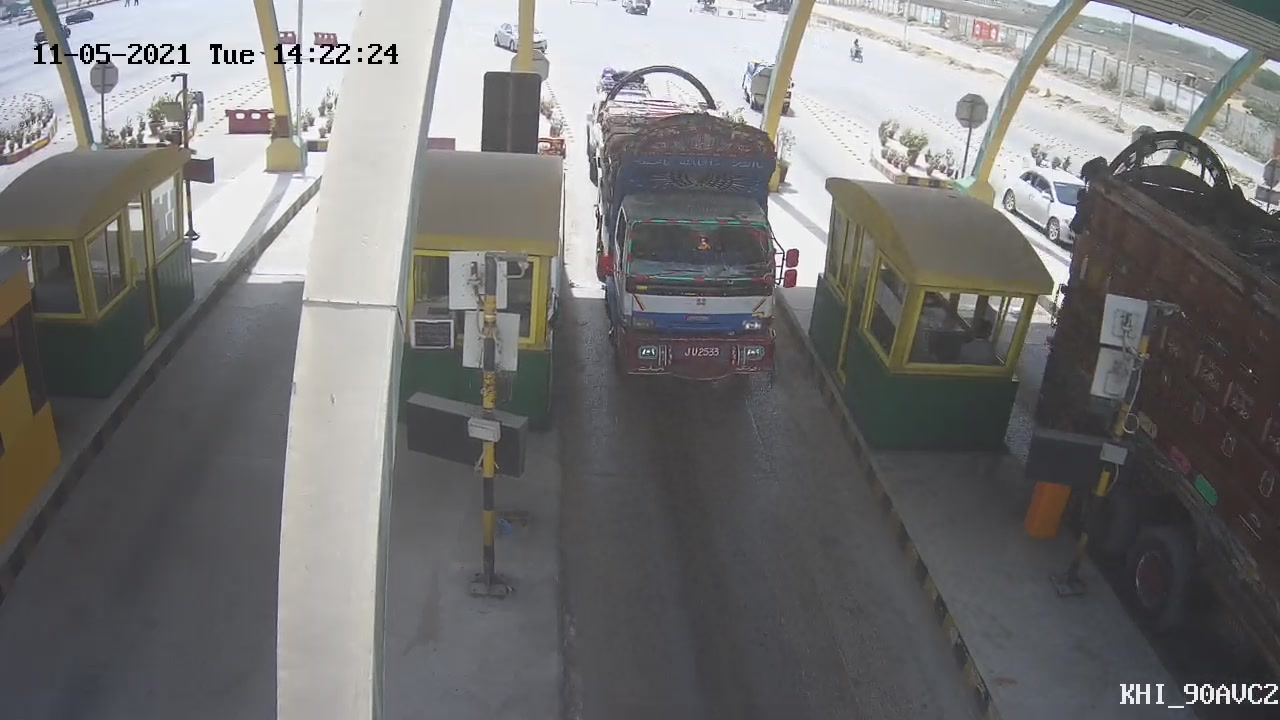F5: (592, 66, 805, 403)
